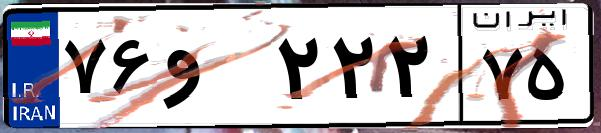2: (270, 28, 330, 110), (385, 28, 445, 110), (330, 28, 385, 110)
5: (525, 38, 570, 115)
6: (110, 28, 158, 98)
7: (57, 26, 110, 100), (475, 38, 525, 113)
و: (158, 20, 270, 120)
